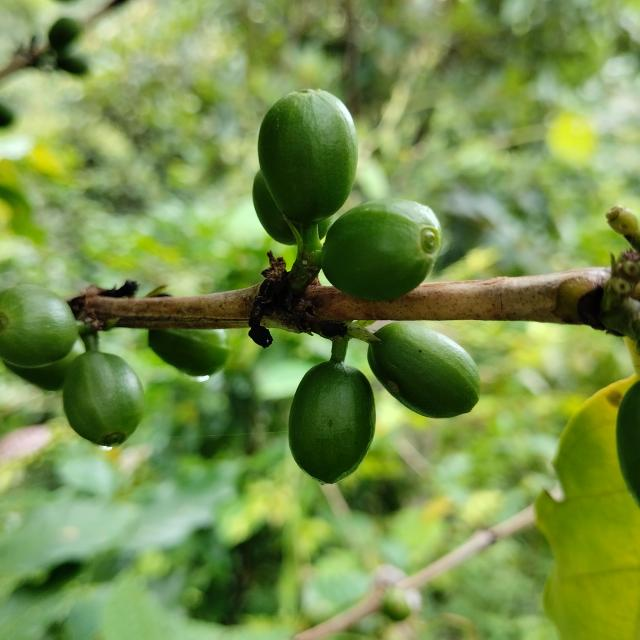Unripe: (258, 89, 358, 224), (321, 198, 442, 301), (368, 322, 481, 419), (289, 360, 376, 484), (62, 351, 144, 447), (0, 285, 78, 368), (148, 329, 230, 377), (252, 170, 296, 245), (319, 216, 333, 239)
